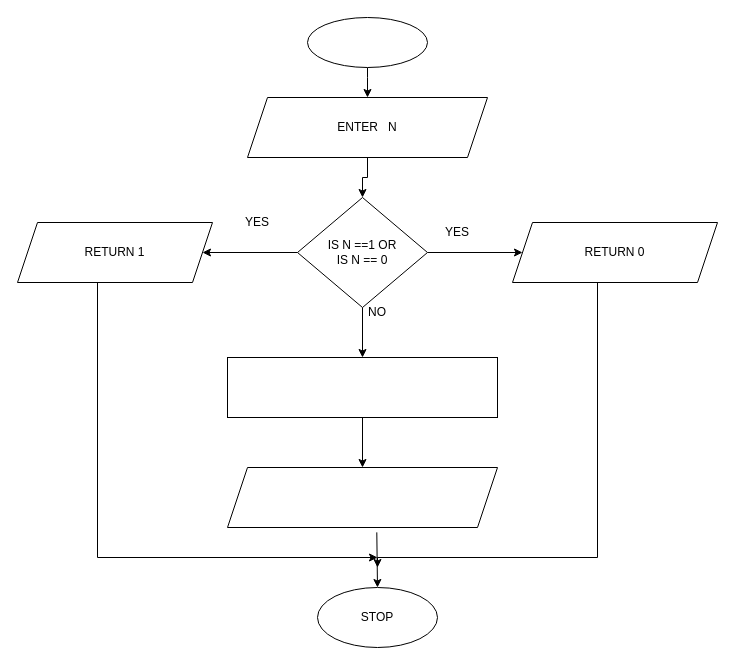
Image size: 735x665. Some labels were removed from this diagram. Each missing label, with the box of its shape:
DISPLAY FIB(N): (226, 466, 498, 528)
FIB(N) = FIB(N -1) + FIB(N - 2): (226, 356, 498, 418)
START: (306, 16, 428, 68)
